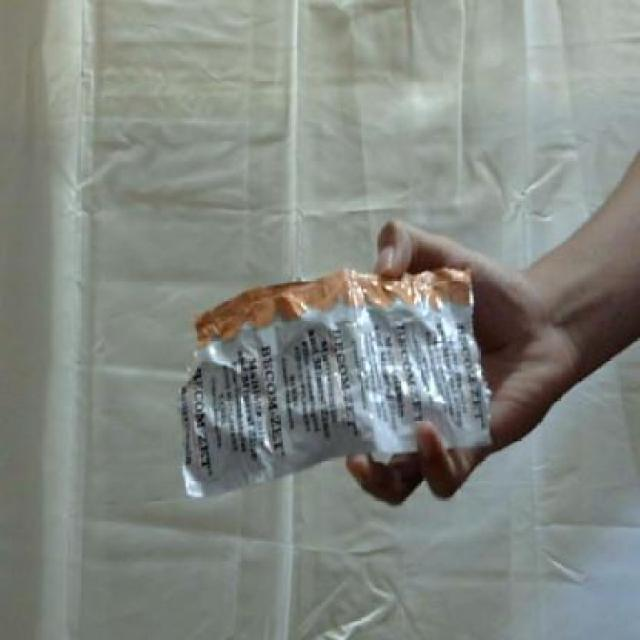Plastic: (181, 267, 490, 500)
